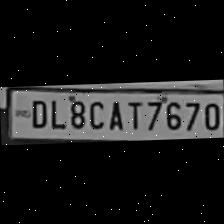0: (198, 98, 220, 131)
6: (161, 98, 181, 132)
7: (142, 98, 160, 132), (181, 98, 199, 132)
8: (66, 96, 86, 130)
A: (104, 98, 124, 132)
C: (86, 96, 104, 130)
D: (26, 97, 46, 128)
L: (46, 95, 66, 129)
T: (124, 97, 144, 131)
